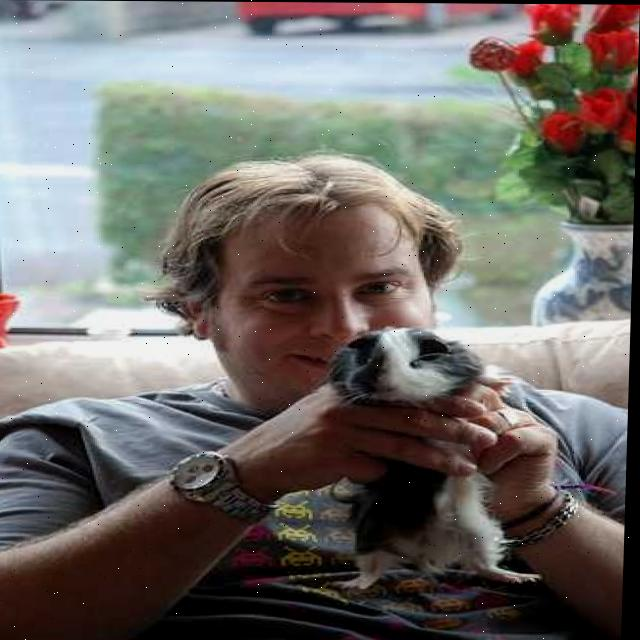guinea pig: (328, 327, 513, 591)
